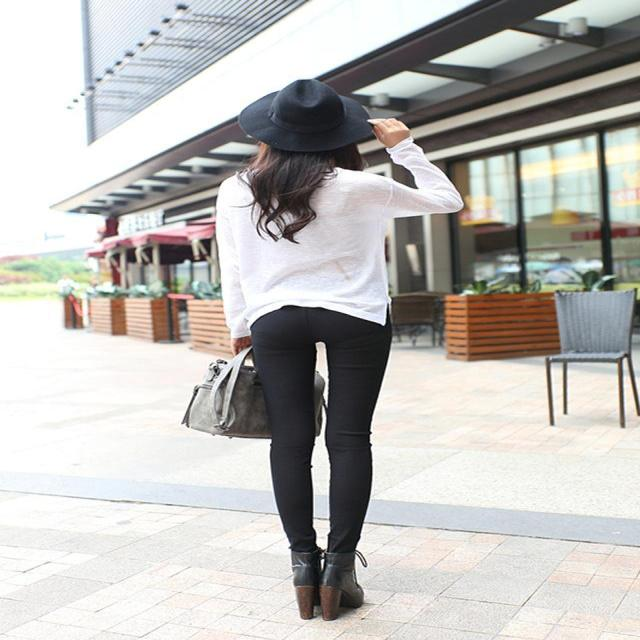long-sleeve-top: (192, 164, 480, 324)
trousers: (222, 340, 440, 542)
